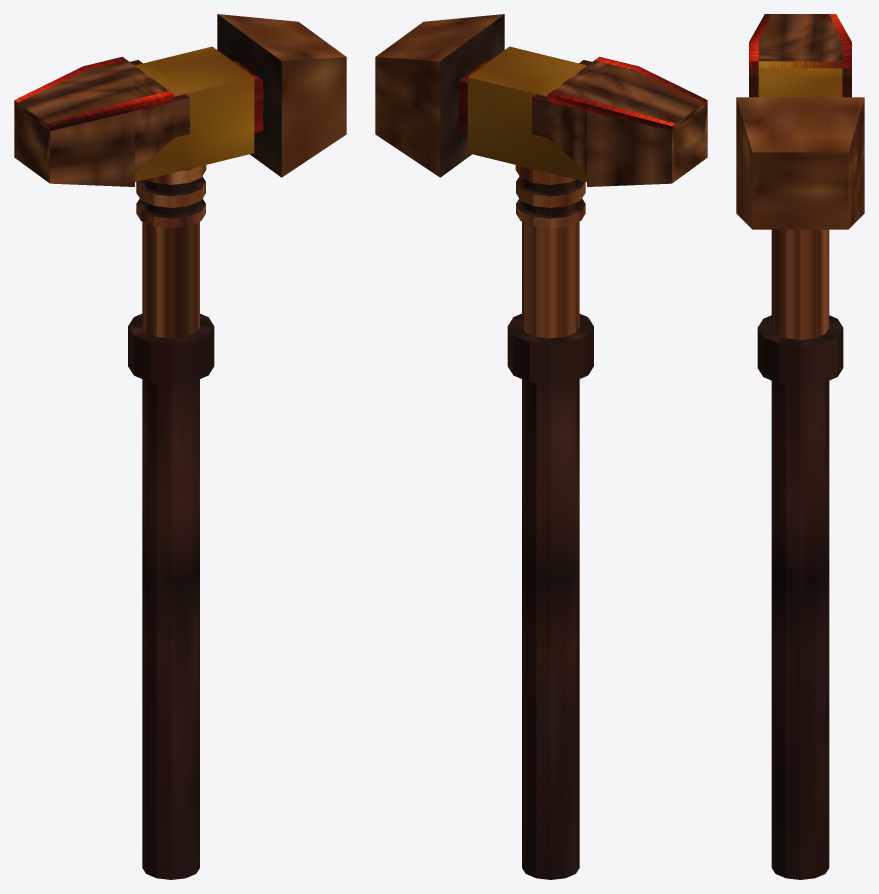
The model's file is starterhammer.glb.
3 views of the same model, side by side, from view 1: azimuth 30°, elevation 25°; view 2: azimuth 150°, elevation 25°; view 3: azimuth 270°, elevation 25° (orthographic).
Parts seen in each view (by area): view 1: Cylinder, Cube; view 2: Cylinder, Cube; view 3: Cylinder, Cube.
Part boxes in pixels (x1,y1,x2,y2): Cylinder: [128, 165, 214, 879]; Cube: [14, 14, 346, 186]; Cylinder: [507, 165, 593, 879]; Cube: [375, 14, 707, 186]; Cylinder: [757, 229, 843, 879]; Cube: [736, 14, 864, 229].
Bounding box in the file's own units: 2 × 5.33 × 0.7672.
Materials: 1 (1 with a texture image).
